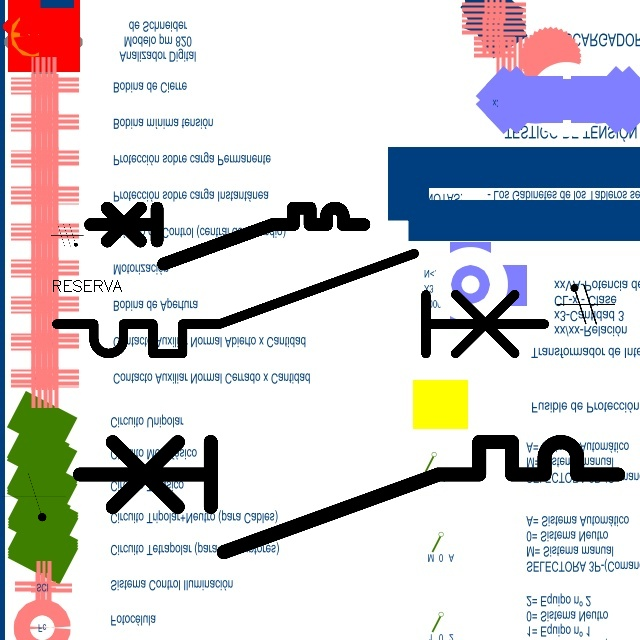interruptor_termomagnetico: (66, 428, 632, 566), (44, 241, 556, 366), (83, 201, 370, 271)
